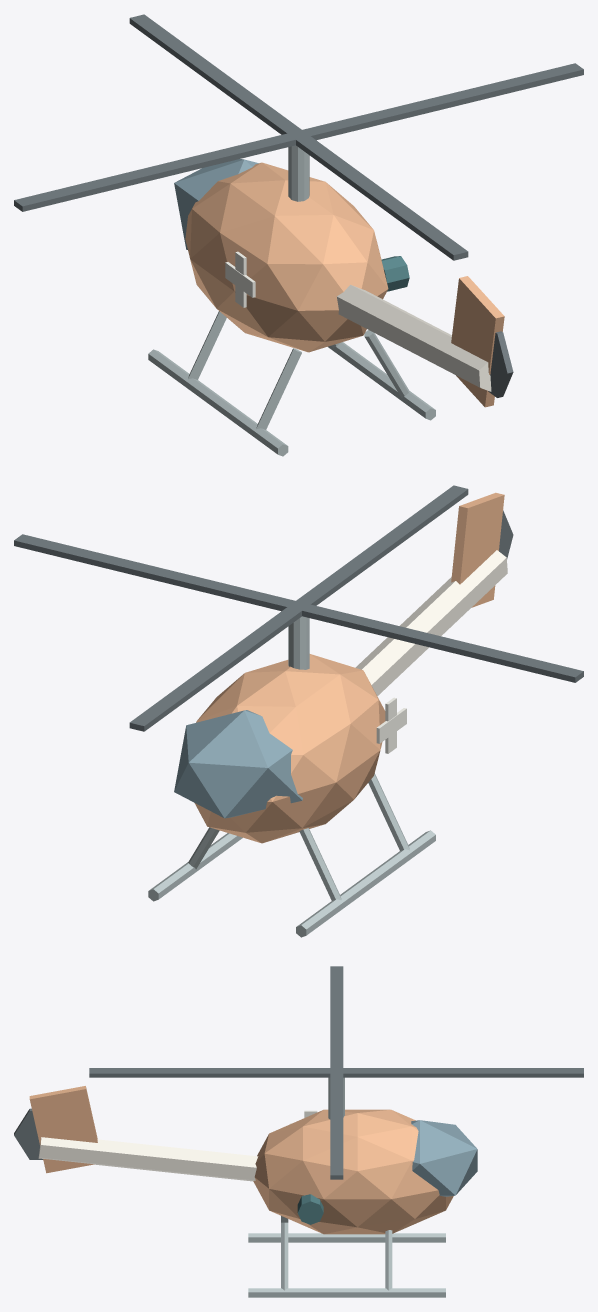
The model's file is rescue_helicopter.glb.
3 renders of one model, top to bottom at view 1: azimuth 30°, elevation 25°; view 2: azimuth 150°, elevation 25°; view 3: azimuth 270°, elevation 25°, orthographic. The views are drawn at different scales.
Parts seen in each view (by area): view 1: rescue_helicopter__rescue_cabin, rescue_helicopter__Rotor_main, rescue_helicopter__Rotor_cross, rescue_helicopter__tail_boom, rescue_helicopter__tail_fin, rescue_helicopter__skid, rescue_helicopter__panoramic_glass, rescue_helicopter__skid.001, rescue_helicopter__rotor_mast, rescue_helicopter__Rotor_tail, rescue_helicopter__skid_support, rescue_helicopter__skid_support.002 (+2 smaller); view 2: rescue_helicopter__rescue_cabin, rescue_helicopter__panoramic_glass, rescue_helicopter__Rotor_main, rescue_helicopter__Rotor_cross, rescue_helicopter__tail_boom, rescue_helicopter__tail_fin, rescue_helicopter__skid, rescue_helicopter__skid.001, rescue_helicopter__rotor_mast, rescue_helicopter__skid_support, rescue_helicopter__skid_support.001; view 3: rescue_helicopter__rescue_cabin, rescue_helicopter__tail_boom, rescue_helicopter__Rotor_cross, rescue_helicopter__panoramic_glass, rescue_helicopter__tail_fin, rescue_helicopter__Rotor_main, rescue_helicopter__skid.001, rescue_helicopter__skid, rescue_helicopter__Rotor_tail, rescue_helicopter__winch, rescue_helicopter__skid_support.002, rescue_helicopter__skid_support.003.
Boxes of the visible parts, x1,y1,x2,y2 form: rescue_helicopter__rescue_cabin: (185,162,388,352); rescue_helicopter__Rotor_main: (14,63,583,211); rescue_helicopter__Rotor_cross: (129,14,468,260); rescue_helicopter__tail_boom: (336,284,491,391); rescue_helicopter__tail_fin: (451,276,504,407); rescue_helicopter__skid: (148,349,288,456); rescue_helicopter__panoramic_glass: (174,159,258,249); rescue_helicopter__skid.001: (328,342,435,420); rescue_helicopter__rotor_mast: (288,145,309,201); rescue_helicopter__Rotor_tail: (488,331,513,397); rescue_helicopter__skid_support: (256,348,301,429); rescue_helicopter__skid_support.002: (364,330,409,398); rescue_helicopter__rescue_cabin: (194,654,385,843); rescue_helicopter__panoramic_glass: (174,710,302,818); rescue_helicopter__Rotor_main: (14,534,583,682); rescue_helicopter__Rotor_cross: (129,485,468,731); rescue_helicopter__tail_boom: (355,550,507,695); rescue_helicopter__tail_fin: (451,492,504,607); rescue_helicopter__skid: (296,830,435,937); rescue_helicopter__skid.001: (148,833,242,901); rescue_helicopter__rotor_mast: (288,616,309,669); rescue_helicopter__skid_support: (368,773,409,850); rescue_helicopter__skid_support.001: (299,828,341,900); rescue_helicopter__rescue_cabin: (253,1109,453,1234); rescue_helicopter__tail_boom: (38,1137,258,1181); rescue_helicopter__Rotor_cross: (89,1068,583,1077); rescue_helicopter__panoramic_glass: (411,1120,477,1196); rescue_helicopter__tail_fin: (29,1086,97,1173); rescue_helicopter__Rotor_main: (330,966,343,1179); rescue_helicopter__skid.001: (248,1288,445,1297); rescue_helicopter__skid: (248,1233,445,1242); rescue_helicopter__Rotor_tail: (14,1108,43,1159); rescue_helicopter__winch: (297,1194,323,1224); rescue_helicopter__skid_support.002: (281,1222,288,1290); rescue_helicopter__skid_support.003: (385,1230,392,1290).
Bounding box in the file's own units: 9.5 × 4.23 × 10.95.
